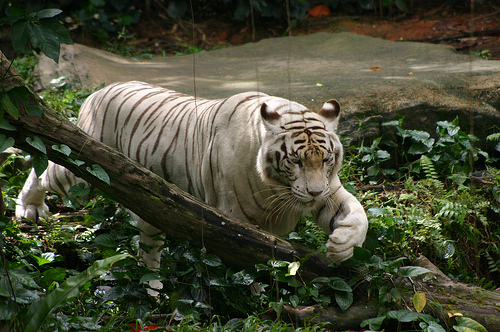Tigre: (90, 62, 376, 301)
